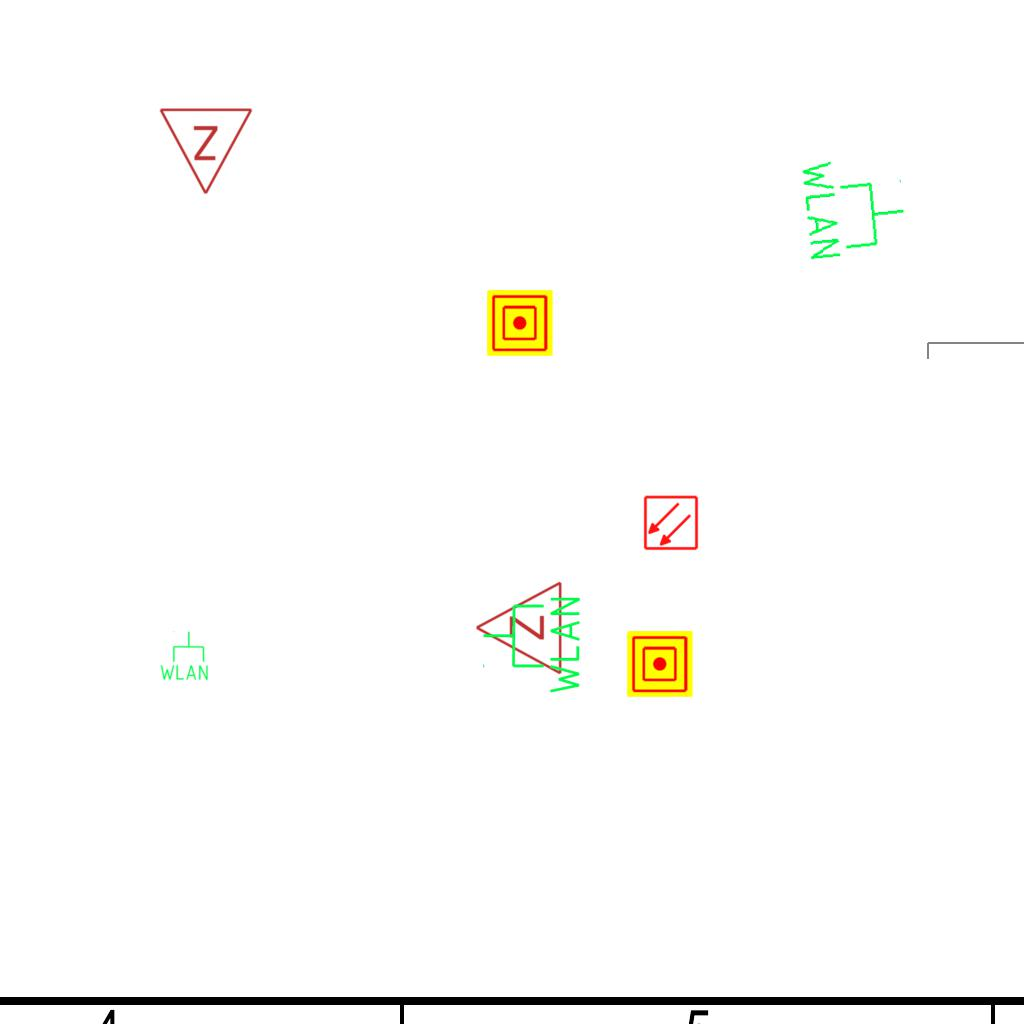NAM-Nichtautomatischer_Melder: (487, 290, 553, 356), (627, 631, 693, 697)
RMO_Rauchmelder_optischer: (643, 495, 699, 551)
WLAN: (796, 148, 912, 265), (480, 593, 584, 698), (158, 630, 210, 682)
Zimmersignalleuchte: (158, 101, 256, 201), (469, 580, 569, 678)
